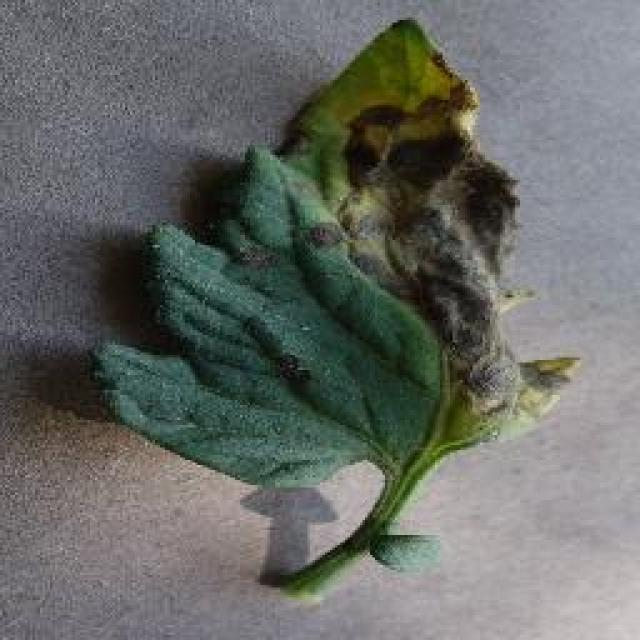Tomato Early blight leaf: (106, 18, 588, 490)
